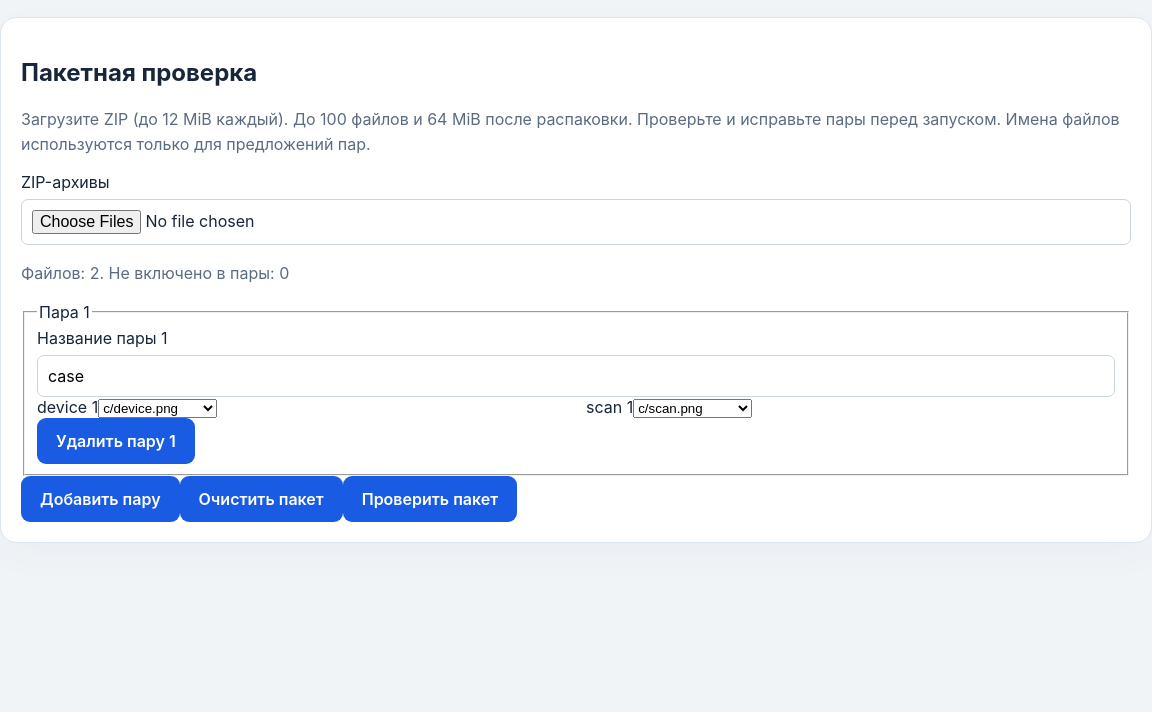
Test: prevents repeated starts and stops remaining queue without inventing a rejection
The image size is (1152, 712).
Earlier steps of the test are not shown.
Expected: the dropdown labelled "scan 1" is shown, [633,399,752,418]
Click the button "Проверить пакет" at (430, 499), box [343,476,517,522]
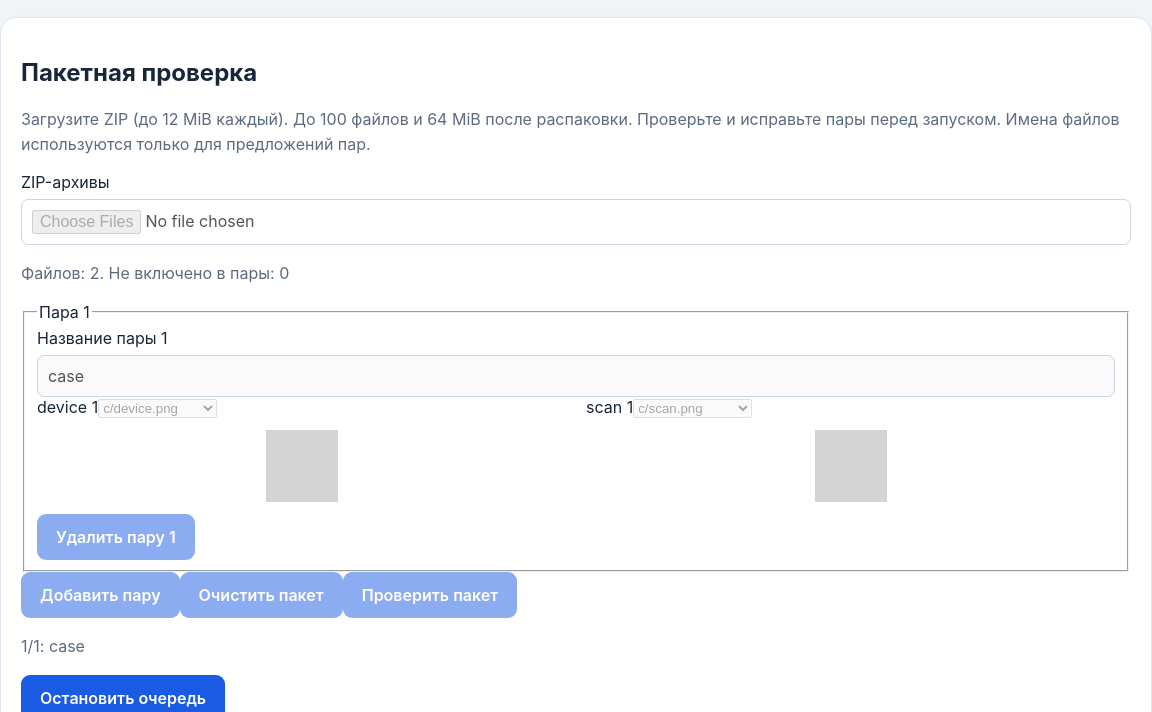
Click the button "Проверить пакет" at (430, 595), box [343,572,517,618]
(page scrolled)
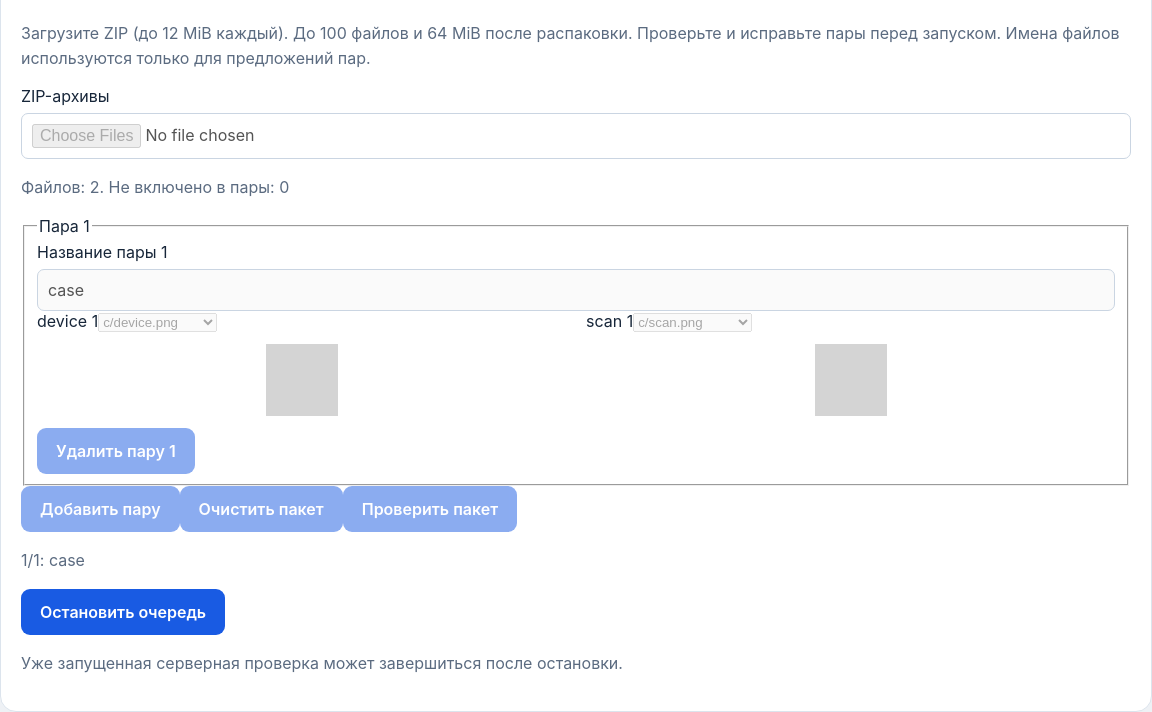
Now the button "Проверить пакет" is disabled, box [343,486,517,532]
Click the button "Остановить очередь" at (123, 612), box [21,589,225,635]
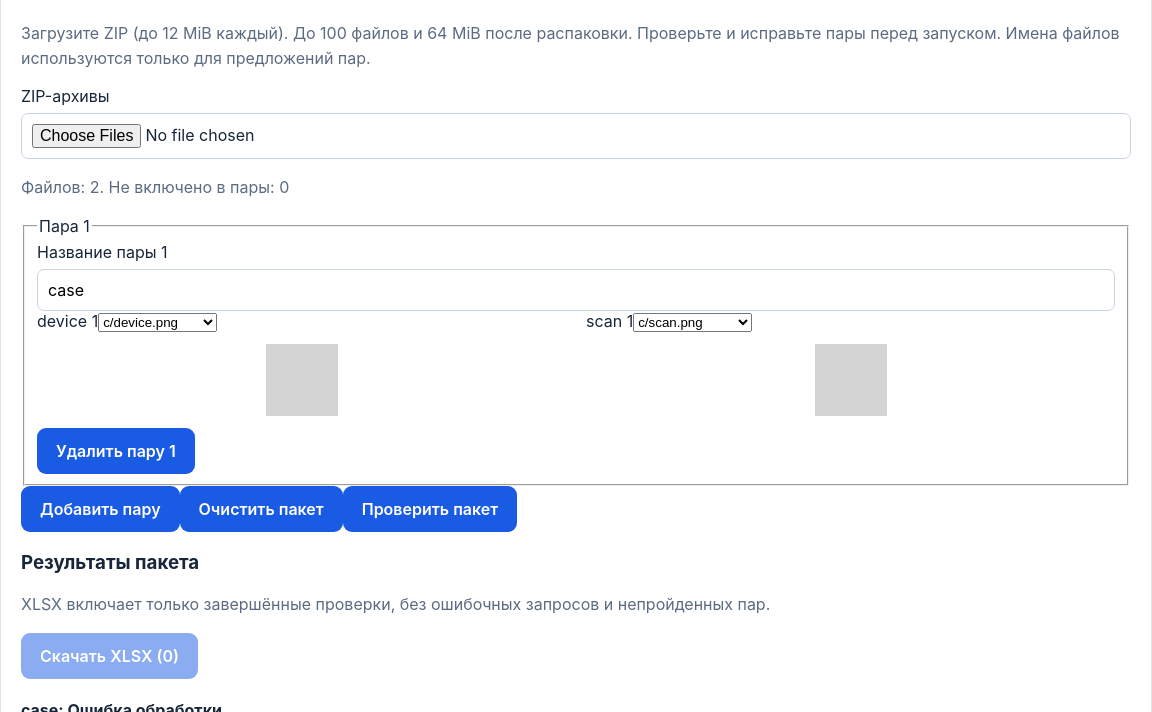
Now the button "Скачать XLSX (0)" is disabled, box [21,633,198,679]
